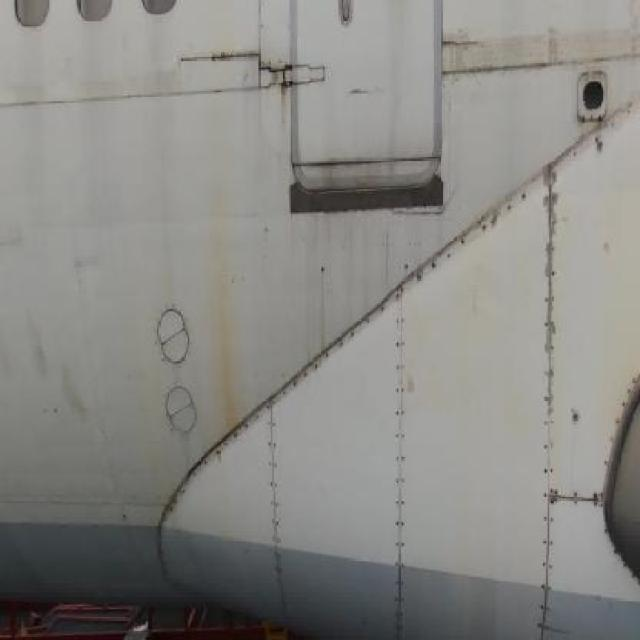Missing-Rivet: (535, 153, 563, 630), (414, 190, 534, 290), (166, 411, 262, 523), (297, 302, 392, 391), (263, 381, 294, 602), (392, 268, 410, 606), (564, 104, 636, 174), (567, 477, 607, 525)
Rust: (208, 221, 244, 430), (274, 61, 295, 130)
Scartch: (0, 291, 92, 470), (442, 15, 566, 100), (66, 235, 111, 303), (615, 1, 640, 87), (1, 208, 33, 267)
